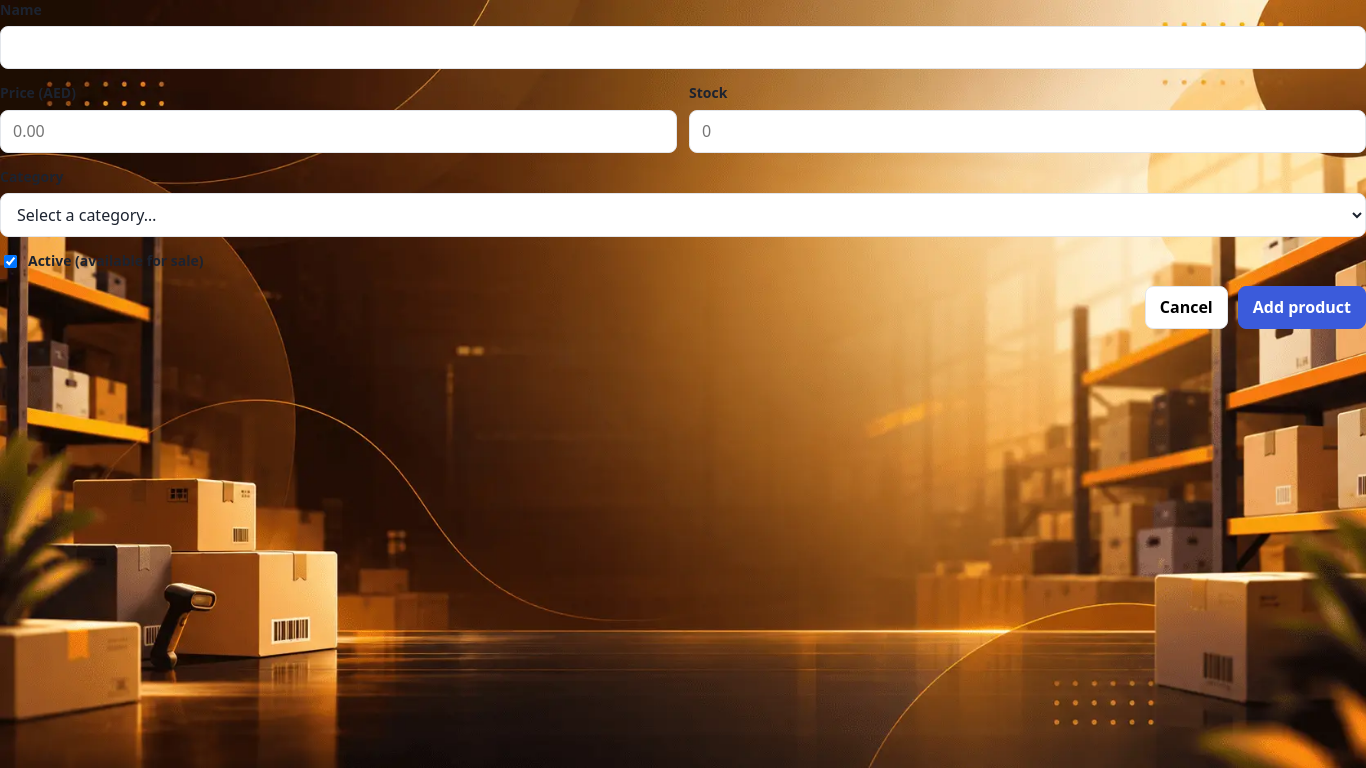
Scenario: ProductForm › shows a message for every invalid field and does not submit
Click the button "Add product": (1302, 307) [1238, 286, 1365, 329]
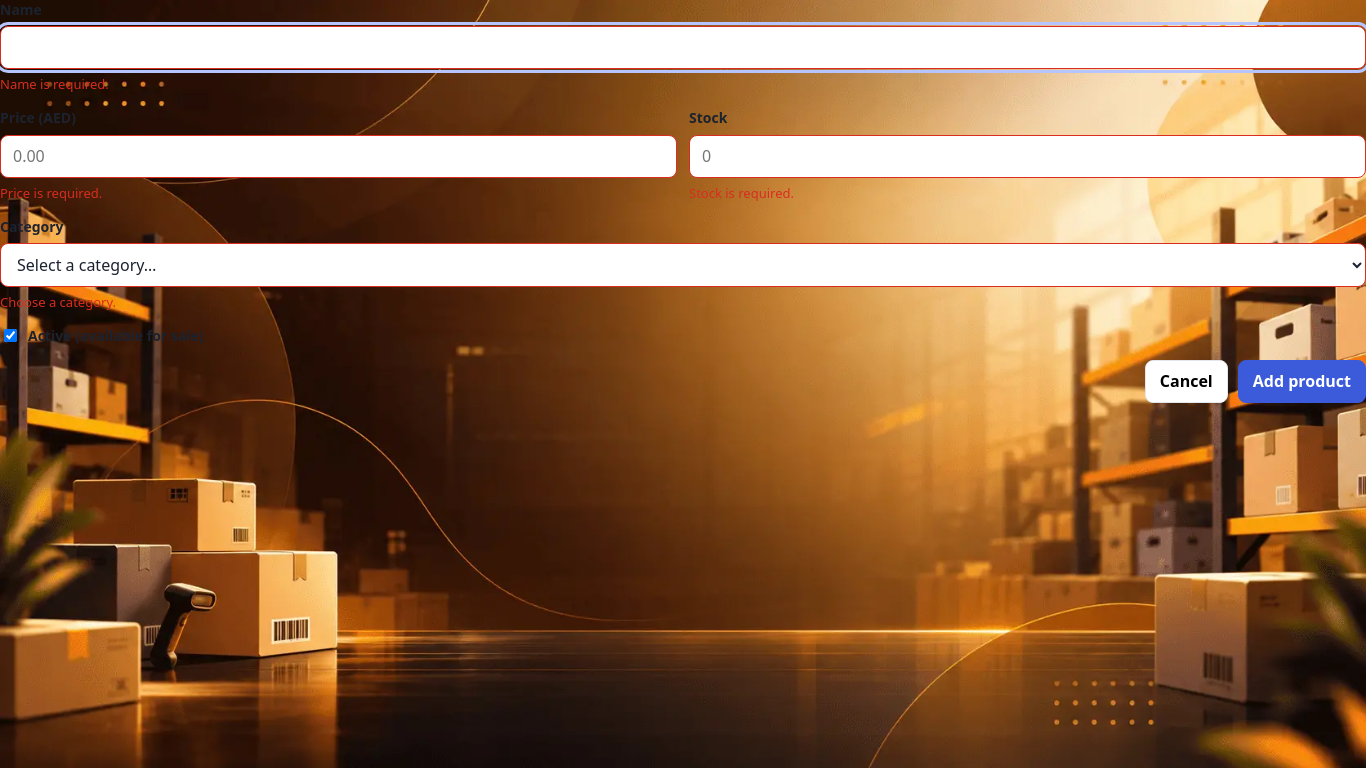
Check: the text "Name is required." is shown, box [0, 76, 109, 94]
Check: the text "Price is required." is shown, box [0, 184, 102, 202]
Check: the text "Stock is required." is shown, box [689, 184, 794, 202]
